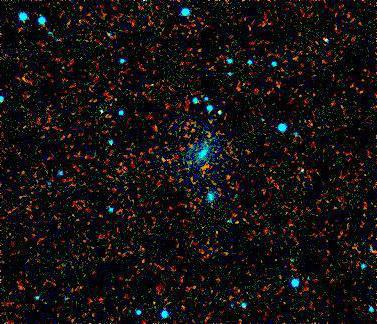star: (215, 164, 245, 194)
